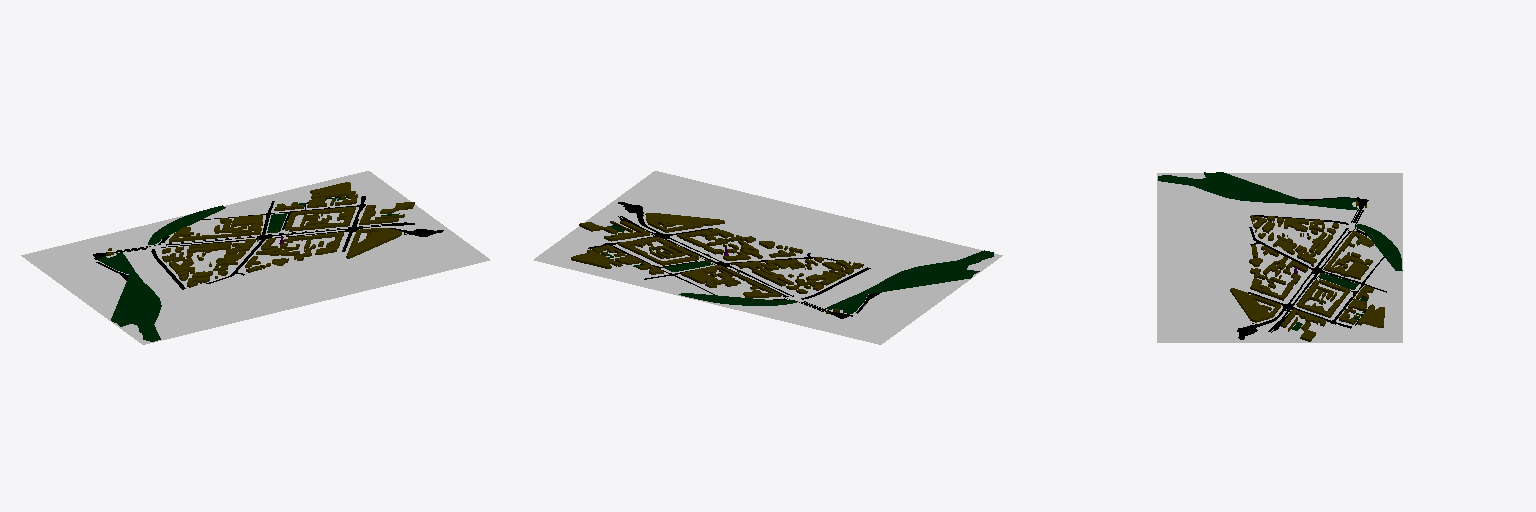
3 views of the same model, side by side, from view 1: azimuth 30°, elevation 25°; view 2: azimuth 150°, elevation 25°; view 3: azimuth 270°, elevation 25° (orthographic).
Parts seen in each view (by area): view 1: base, Building, Park, Road; view 2: base, Building, Park, Road; view 3: base, Building, Park, Road.
Boxes of the visible parts, box(x1,y1,x2,y2) form: base: box(21, 171, 489, 344); Building: box(106, 182, 414, 287); Park: box(98, 197, 399, 341); Road: box(93, 196, 443, 289); base: box(534, 171, 1002, 344); Building: box(571, 213, 863, 313); Park: box(604, 225, 993, 313); Road: box(588, 202, 881, 318); base: box(1157, 173, 1402, 342); Building: box(1230, 201, 1384, 341); Park: box(1158, 172, 1402, 330); Road: box(1237, 197, 1386, 339).
Bounding box in the file's own units: 130 × 5.12 × 79.09.